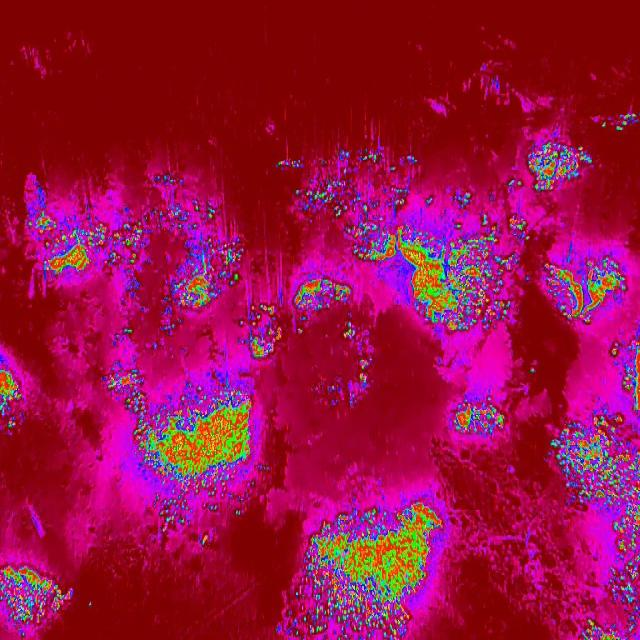fire: (24, 181, 250, 285), (104, 366, 258, 500), (391, 192, 530, 338), (294, 150, 417, 259), (314, 502, 406, 640), (548, 409, 640, 505), (540, 250, 628, 330), (0, 555, 80, 640), (512, 132, 602, 198), (115, 279, 223, 332), (606, 506, 640, 640), (332, 323, 380, 406), (290, 268, 360, 324), (278, 536, 315, 638), (405, 500, 444, 596), (448, 383, 508, 442), (234, 299, 292, 360), (600, 327, 640, 409), (0, 352, 30, 429), (582, 616, 606, 640)
